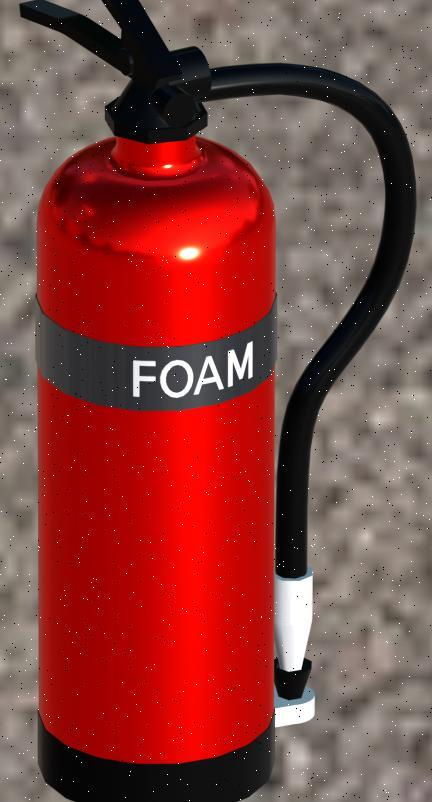Fire Extinguisher: (22, 0, 422, 792)
